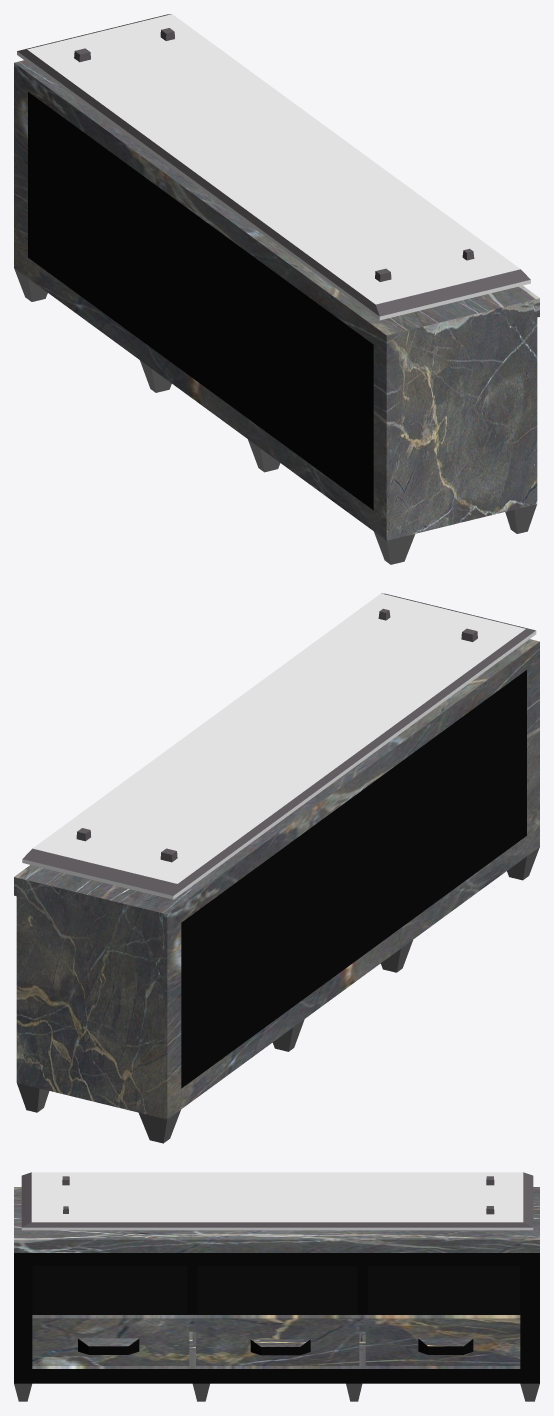
Rendered from the-counter.73bdd2a6.glb.
3 renders of one model, top to bottom at view 1: azimuth 30°, elevation 25°; view 2: azimuth 150°, elevation 25°; view 3: azimuth 270°, elevation 25°, orthographic. The views are drawn at different scales.
Parts seen in each view (by area): view 1: Cube, Cube.002; view 2: Cube, Cube.002; view 3: Cube, Cube.002.
Part boxes in pixels (x1,y1,x2,y2): Cube: (14, 60, 539, 564); Cube.002: (17, 14, 530, 320); Cube: (14, 639, 539, 1143); Cube.002: (22, 593, 536, 899); Cube: (14, 1187, 539, 1401); Cube.002: (21, 1172, 533, 1230).
Bounding box in the file's own units: 4.91 × 7.72 × 19.86.
Materials: 6 (1 with a texture image).
